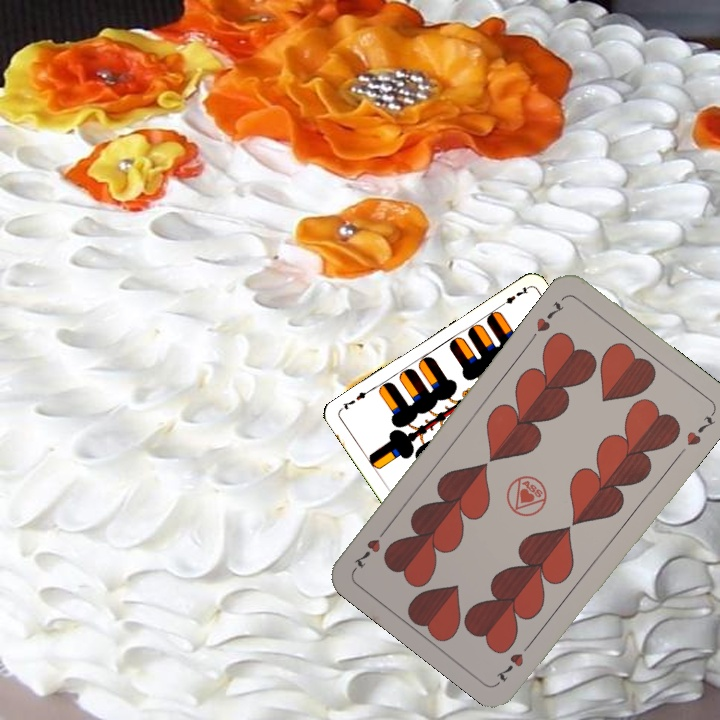E7: (494, 283, 531, 310)
H7: (492, 636, 536, 684), (532, 297, 567, 335)
